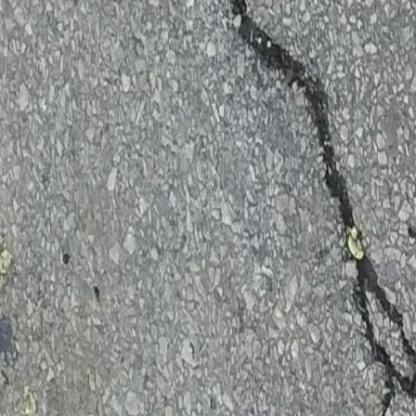Cracks: (213, 2, 416, 416)
